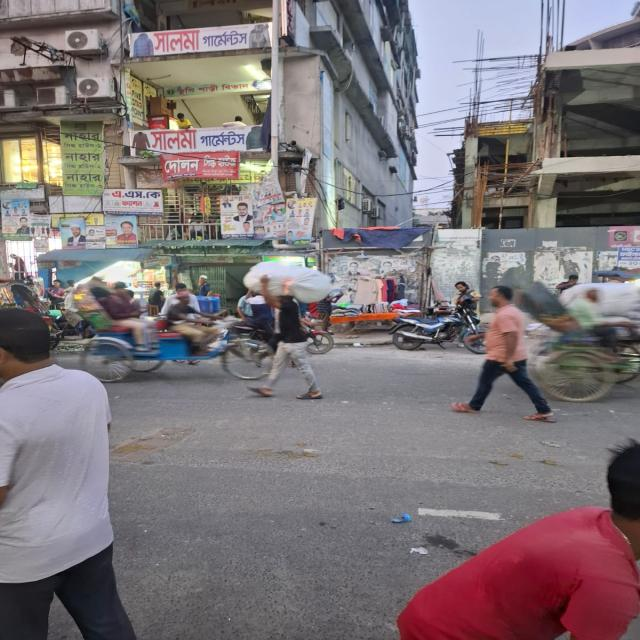person: (451, 285, 555, 423), (251, 269, 326, 400)
